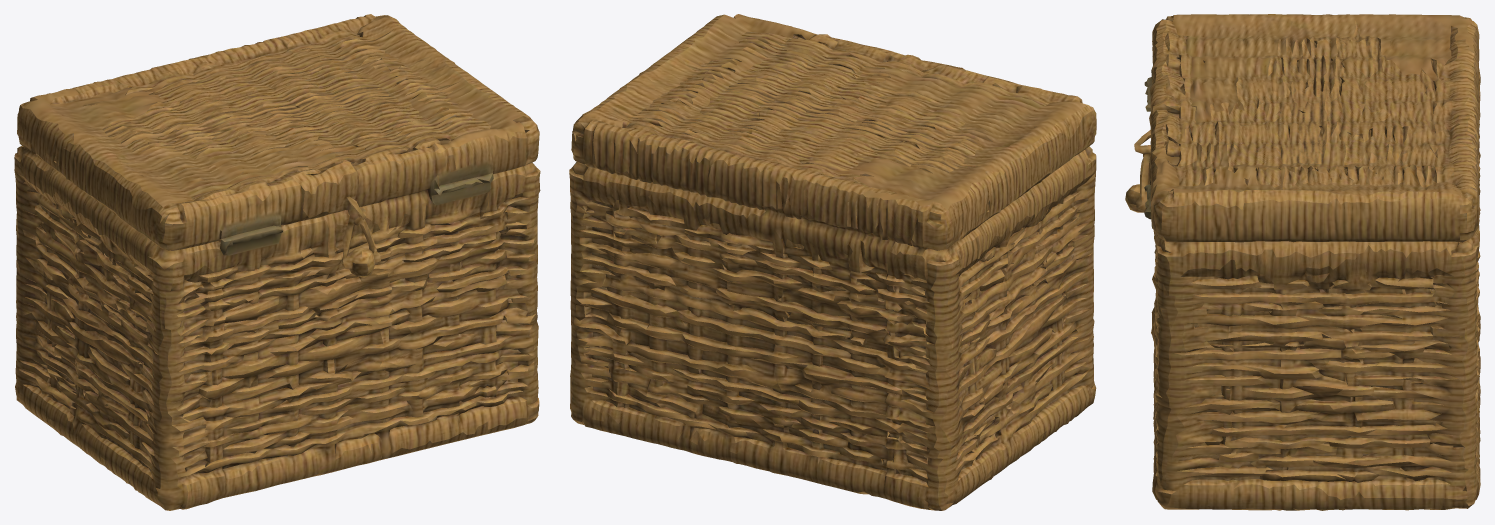
The picture shows the model from 3 angles, left to right: view 1: azimuth 30°, elevation 25°; view 2: azimuth 150°, elevation 25°; view 3: azimuth 270°, elevation 25°; orthographic projection. The views are drawn at different scales.
Visible parts, largest first — view 1: world; view 2: world; view 3: world.
Boxes of the visible parts, x1=… form: world: x1=14, y1=14, x2=540, y2=510; world: x1=569, y1=14, x2=1096, y2=510; world: x1=1125, y1=14, x2=1480, y2=510.
Size of the model in its own units: 0.4 by 0.3053 by 0.3107.
Materials: 1 (1 with a texture image).
